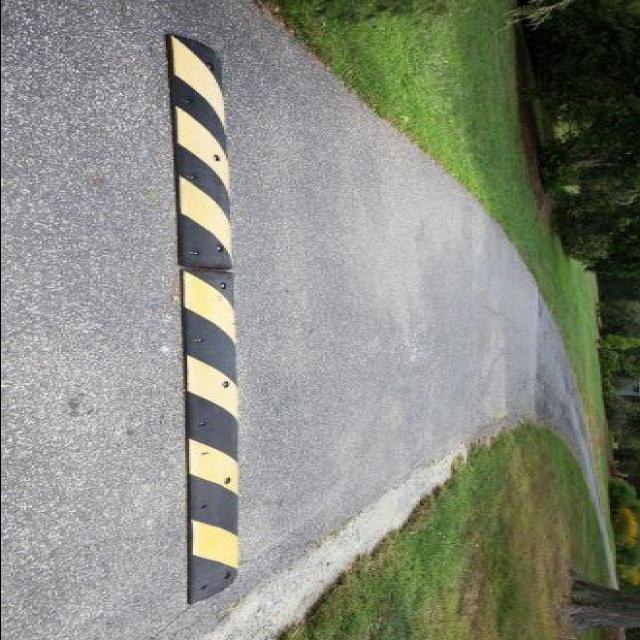speedbreaker: (136, 25, 262, 616)
